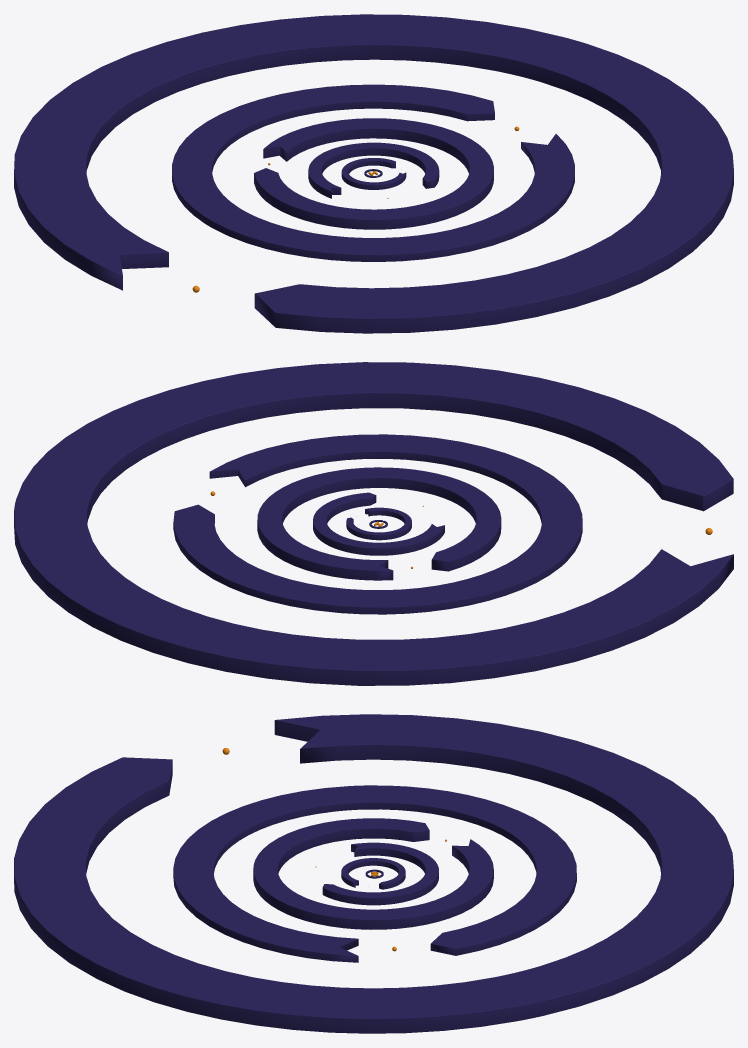
File: hireco_3DScene_v1.glb
The picture shows the model from 3 angles, top to bottom: view 1: azimuth 30°, elevation 25°; view 2: azimuth 150°, elevation 25°; view 3: azimuth 270°, elevation 25°; orthographic projection.
Visible parts, largest first — view 1: ringArrow_6, ringArrow_5, ringArrow_4, ringArrow_3, ringArrow_2; view 2: ringArrow_6, ringArrow_5, ringArrow_4, ringArrow_3, ringArrow_2; view 3: ringArrow_6, ringArrow_5, ringArrow_4, ringArrow_3, ringArrow_2.
Part boxes in pixels (x1=…): ringArrow_6: x1=14, y1=14, x2=733, y2=333; ringArrow_5: x1=172, y1=84, x2=574, y2=261; ringArrow_4: x1=254, y1=118, x2=493, y2=229; ringArrow_3: x1=308, y1=142, x2=439, y2=198; ringArrow_2: x1=341, y1=158, x2=406, y2=189; ringArrow_6: x1=14, y1=362, x2=733, y2=685; ringArrow_5: x1=173, y1=434, x2=582, y2=614; ringArrow_4: x1=257, y1=467, x2=501, y2=580; ringArrow_3: x1=313, y1=492, x2=444, y2=555; ringArrow_2: x1=346, y1=507, x2=411, y2=540; ringArrow_6: x1=14, y1=714, x2=733, y2=1033; ringArrow_5: x1=173, y1=785, x2=576, y2=962; ringArrow_4: x1=253, y1=818, x2=493, y2=929; ringArrow_3: x1=322, y1=842, x2=438, y2=905; ringArrow_2: x1=341, y1=858, x2=405, y2=889.
Size of the model in its own units: 1.54 by 0.0364 by 1.54.
